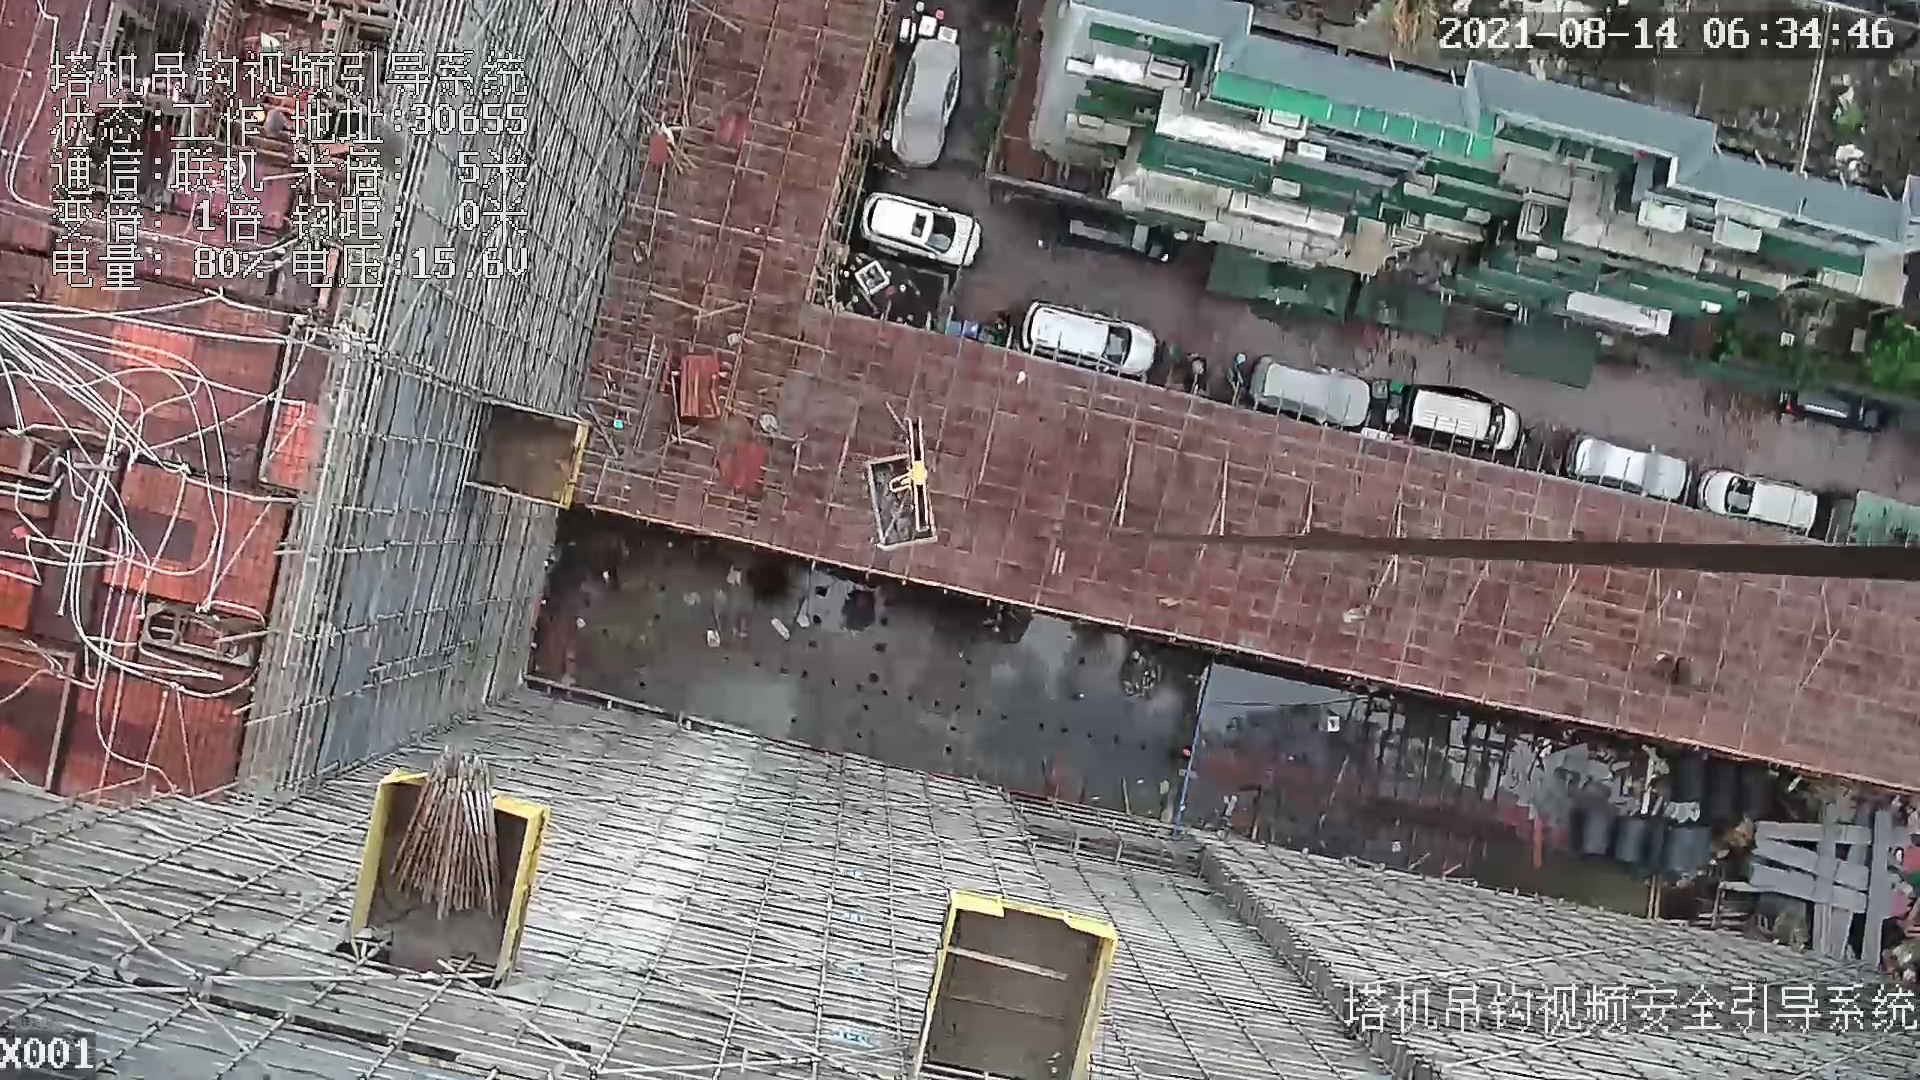hook: (887, 409, 931, 531)
hopper: (858, 442, 951, 568)
scaffold: (404, 750, 508, 931)
